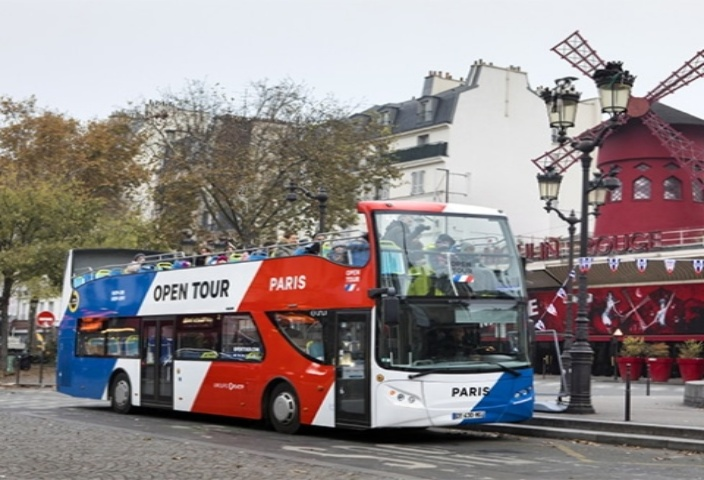bus: (51, 187, 543, 436)
